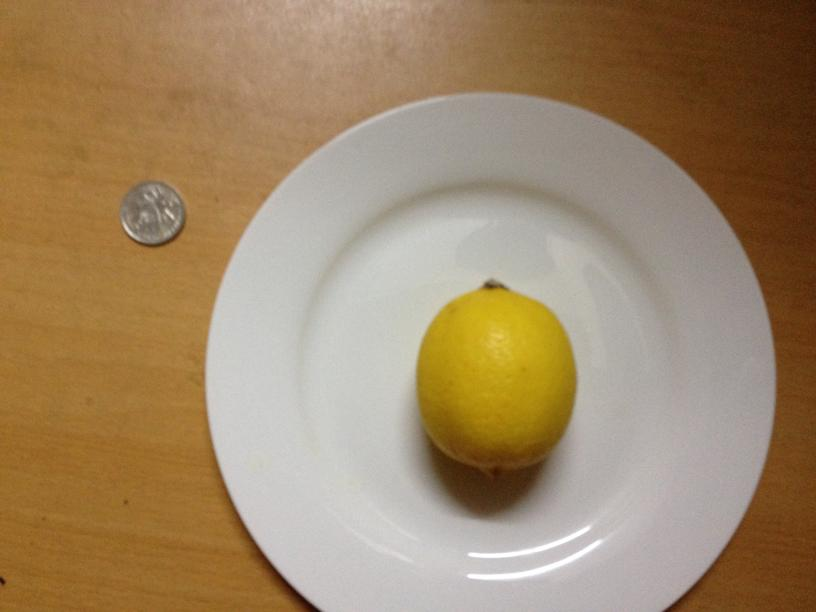coin: (121, 181, 186, 247)
lemon: (419, 283, 576, 474)
